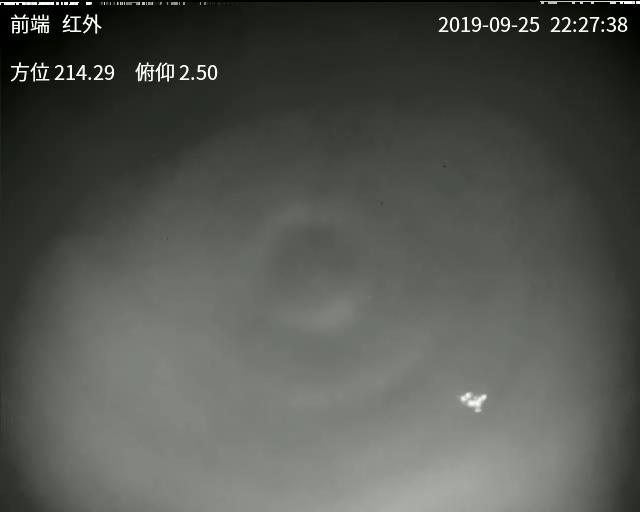uav: (455, 388, 496, 419)
